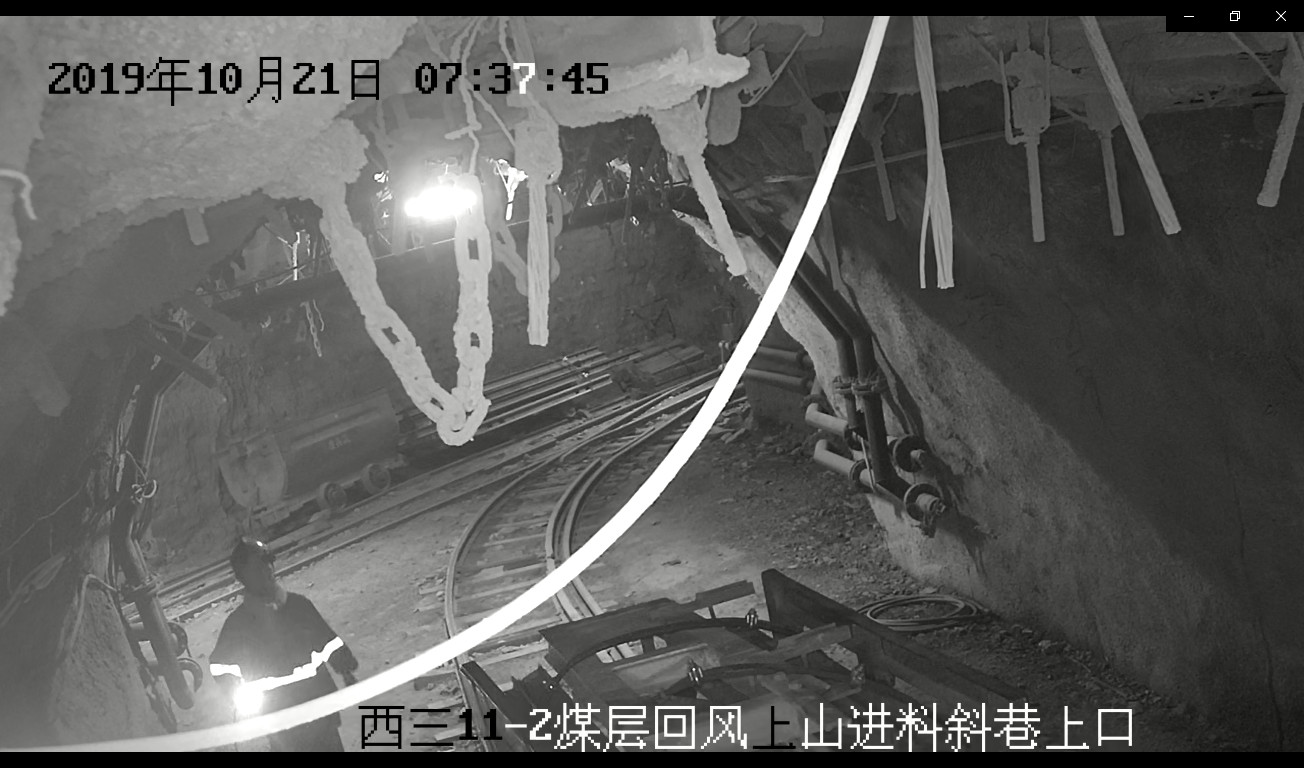helmet: (230, 536, 277, 581)
